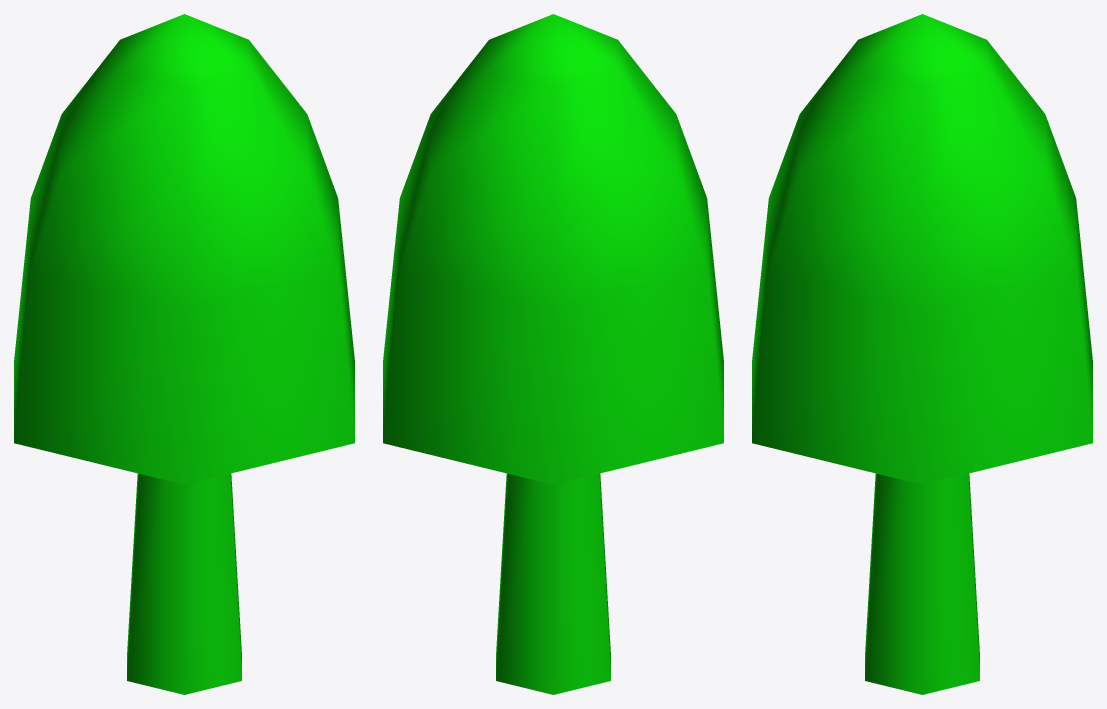
Rendered from m_mushroom1.fbx.
3 views of the same model, side by side, from view 1: azimuth 30°, elevation 25°; view 2: azimuth 150°, elevation 25°; view 3: azimuth 270°, elevation 25° (orthographic).
Visible parts, largest first — view 1: m_mushroom1; view 2: m_mushroom1; view 3: m_mushroom1.
Boxes of the visible parts, left/top/right/bottom form: m_mushroom1: left=14, top=14, right=354, bottom=694; m_mushroom1: left=383, top=14, right=723, bottom=694; m_mushroom1: left=752, top=14, right=1092, bottom=694.
Bounding box in the file's own units: 0.4107 × 0.7522 × 0.3557.
